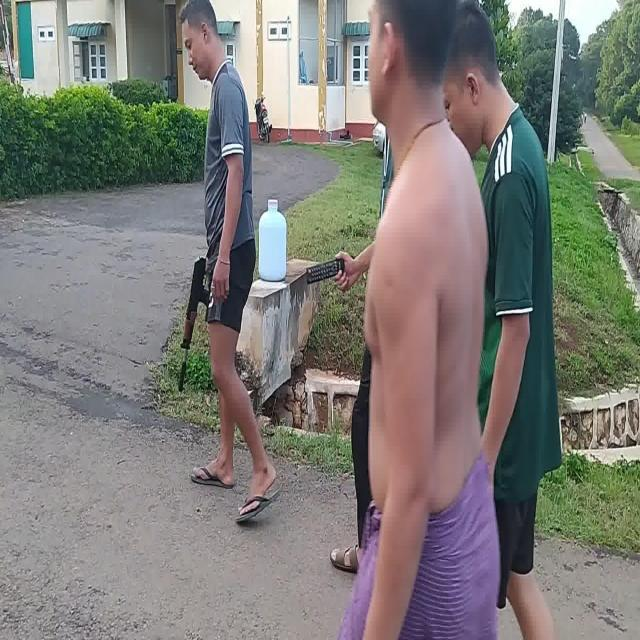gun: (179, 255, 205, 394)
